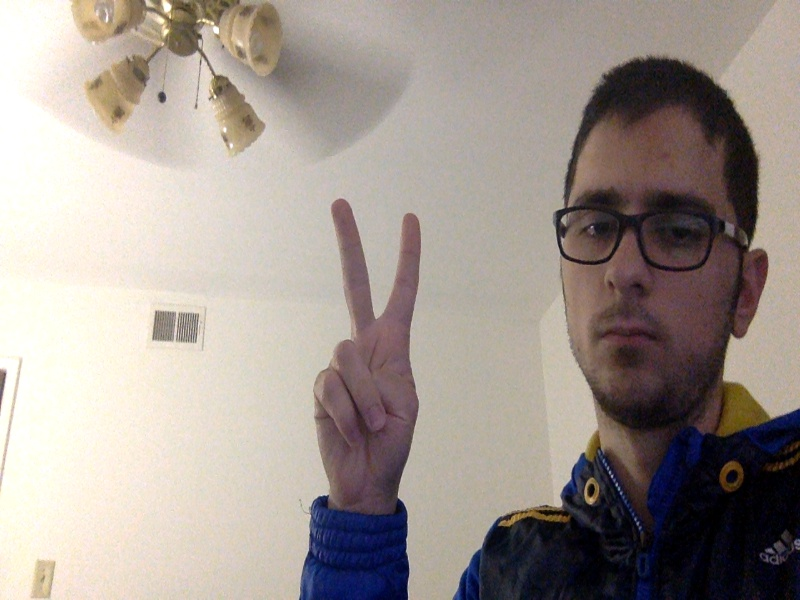2-hand: (313, 200, 425, 503)
